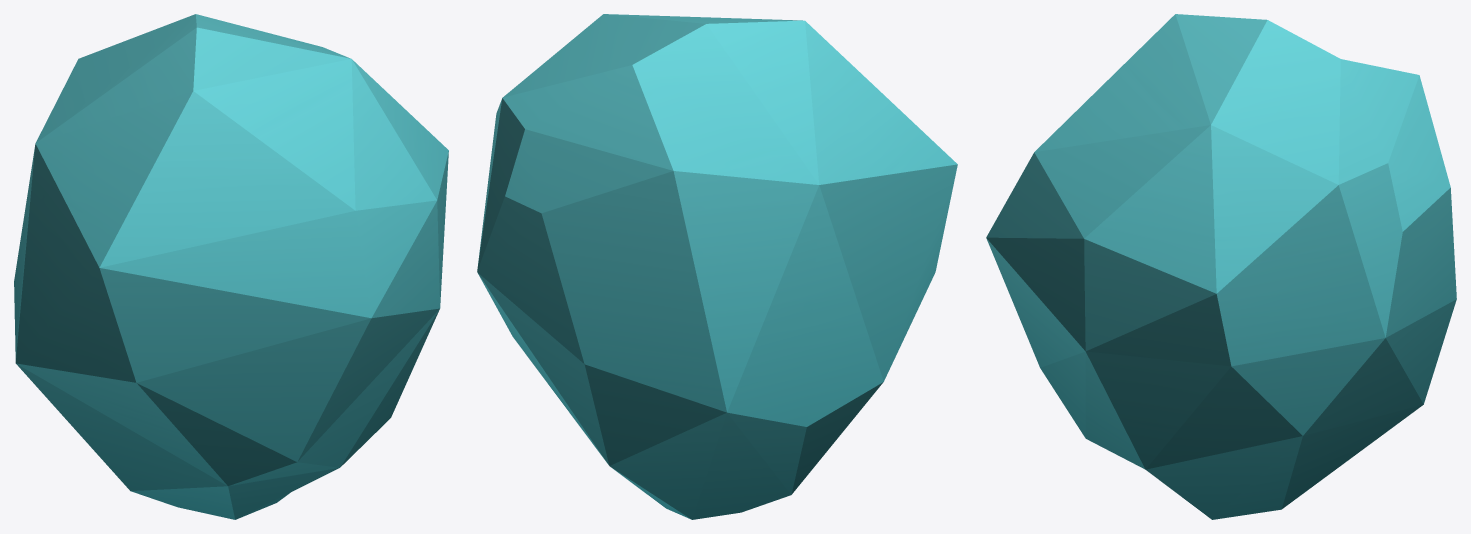
File: bush_ball_blue.fbx
The picture shows the model from 3 angles, left to right: view 1: azimuth 30°, elevation 25°; view 2: azimuth 150°, elevation 25°; view 3: azimuth 270°, elevation 25°; orthographic projection. The views are drawn at different scales.
Visible parts, largest first — view 1: bush_ball_blue; view 2: bush_ball_blue; view 3: bush_ball_blue.
Boxes of the visible parts, box(x1,y1,x2,y2) form: bush_ball_blue: box(14, 14, 448, 519); bush_ball_blue: box(477, 14, 957, 519); bush_ball_blue: box(986, 14, 1456, 519).
Bounding box in the file's own units: 0.9 × 1 × 0.9.
1 material, 1 textured.
